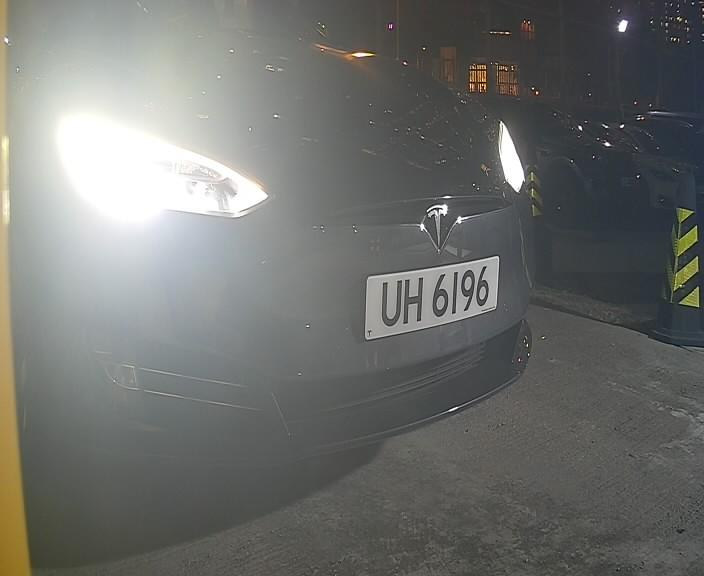Car: (13, 3, 610, 471)
License Plate: (349, 250, 503, 343)
